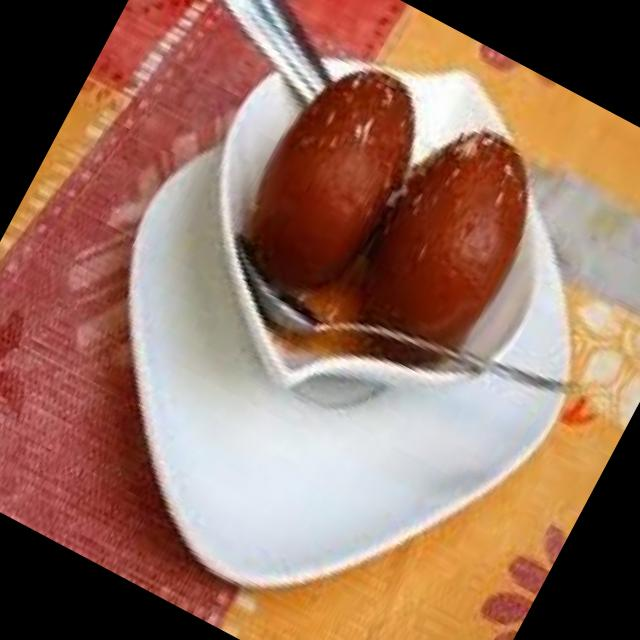gulab_jamun: (330, 107, 564, 385), (218, 46, 444, 316)
